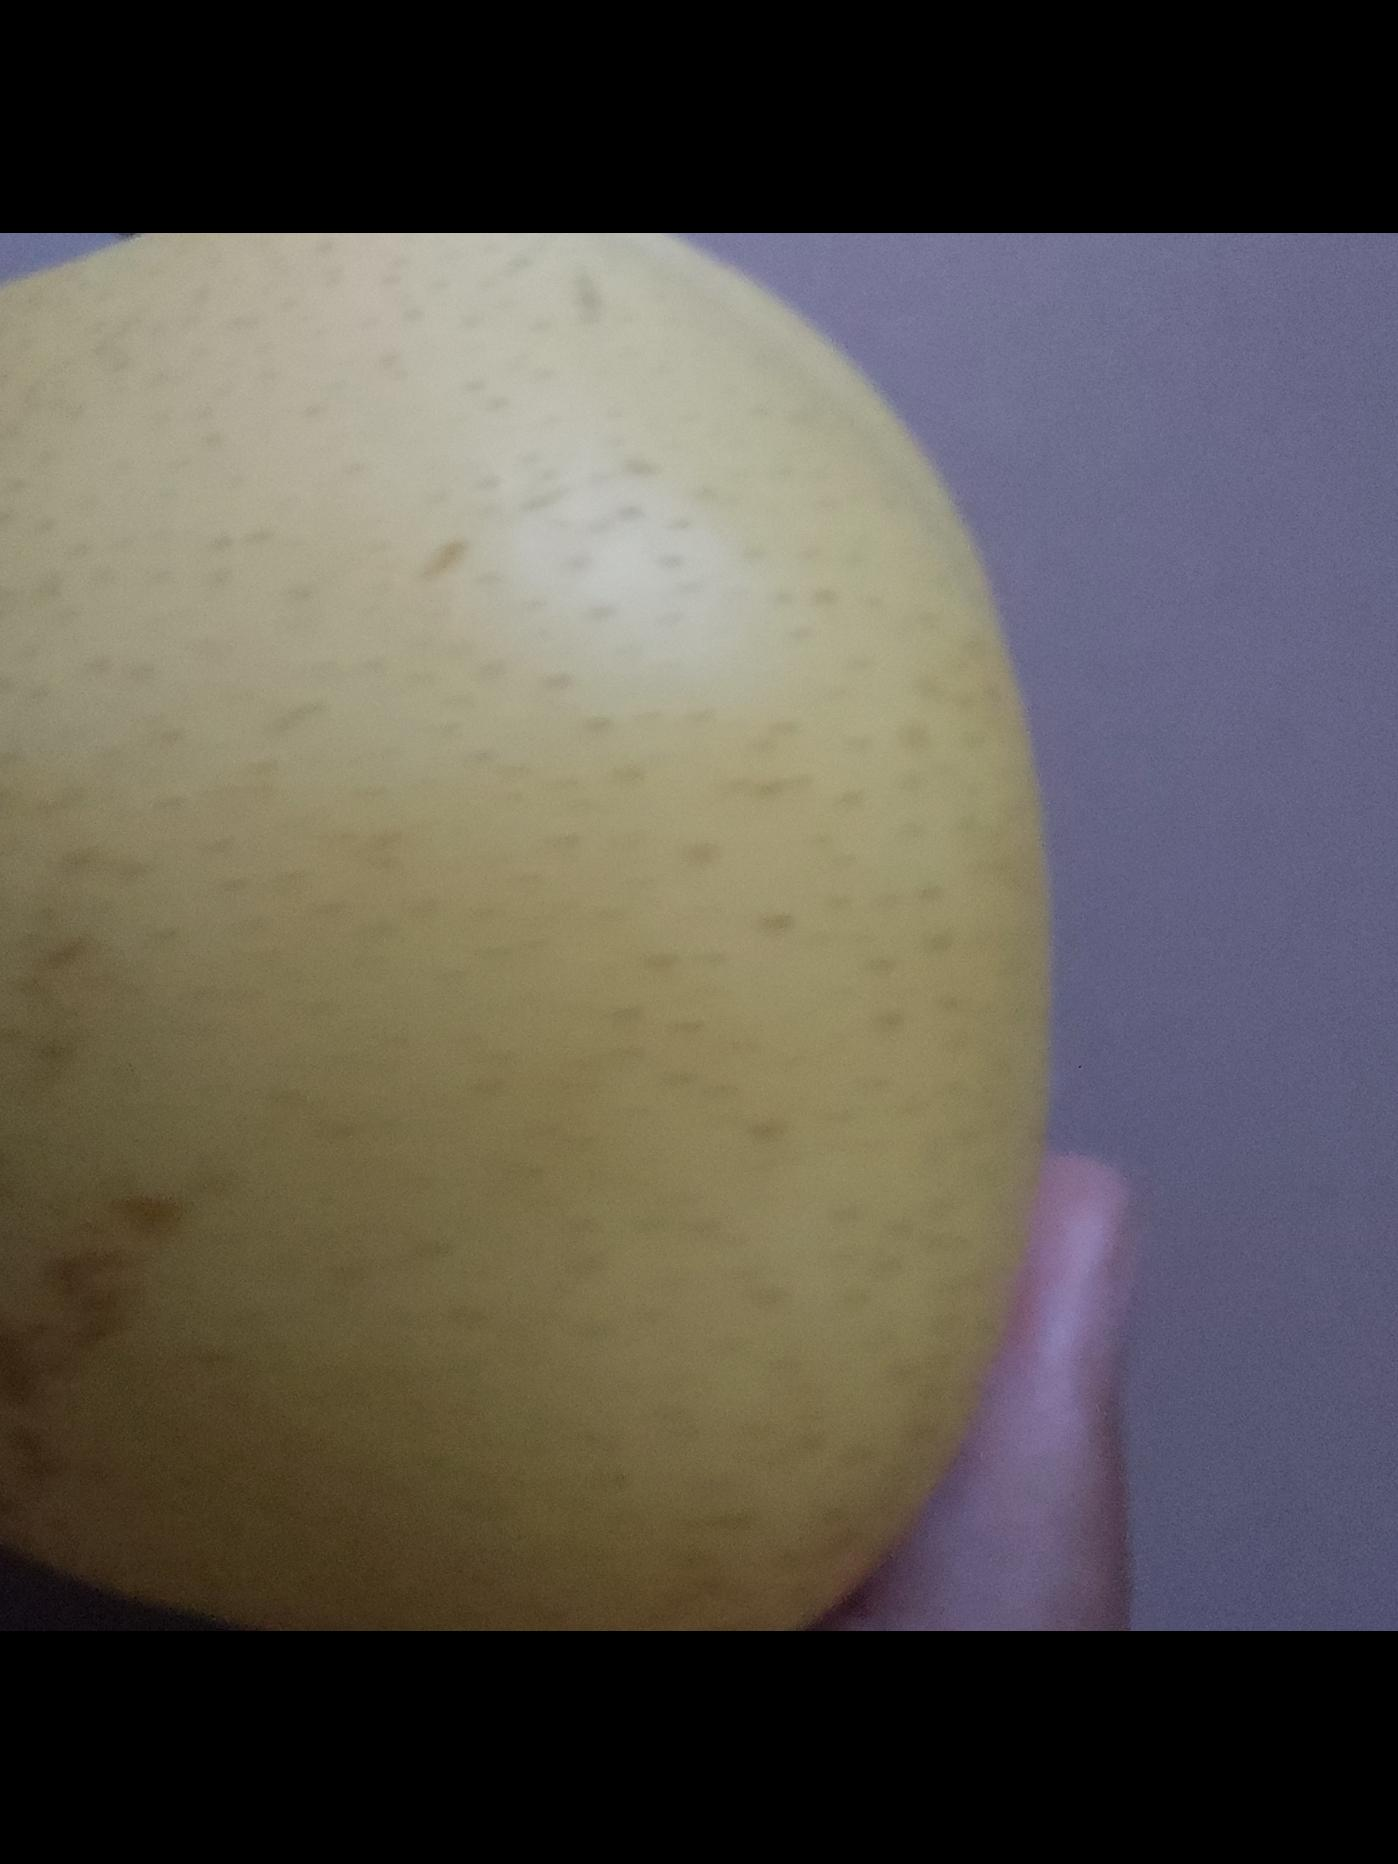Good Pear: (0, 233, 1062, 1631)
